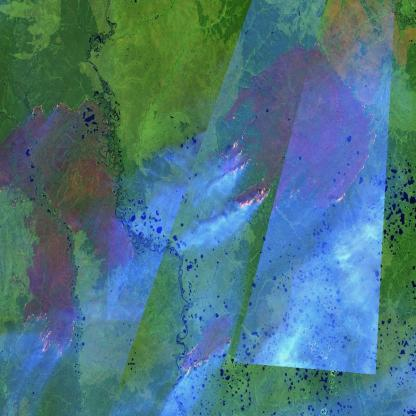fire: (219, 133, 271, 214), (17, 304, 82, 366), (28, 92, 94, 124), (177, 339, 217, 383)
